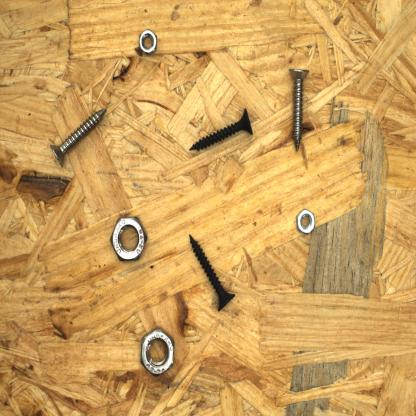screw: (184, 228, 238, 316), (46, 104, 110, 171), (184, 104, 258, 156), (286, 64, 311, 156)
